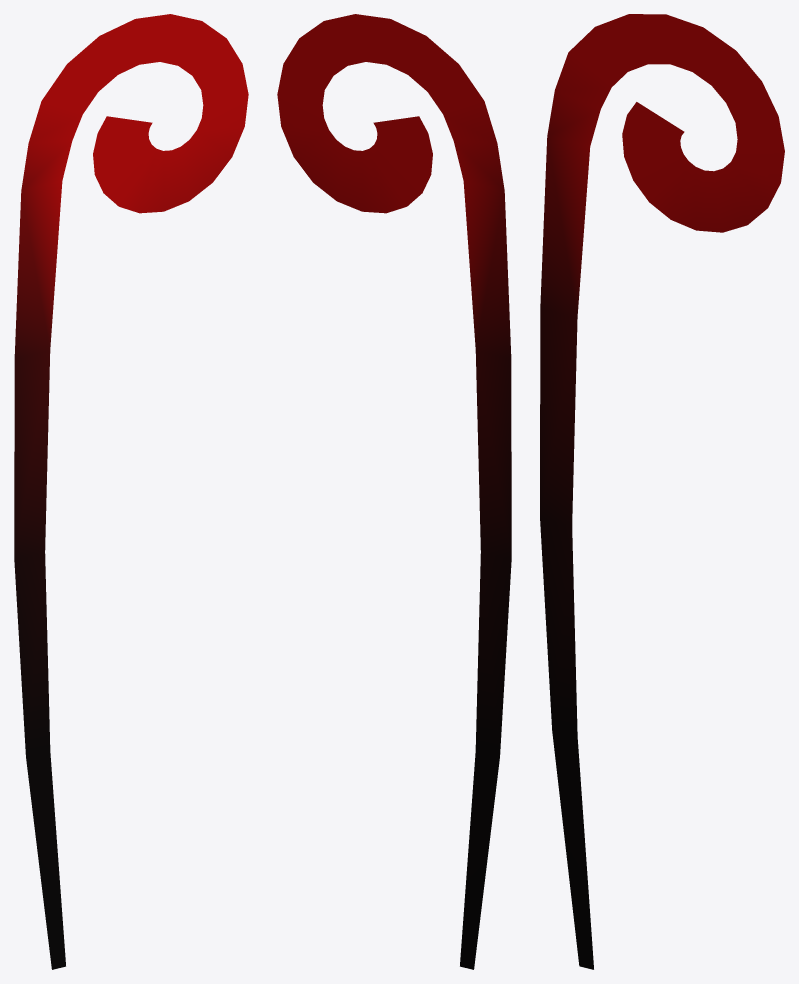
Rendered from SM_Fern_03_LOD0.fbx.
3 views of the same model, side by side, from view 1: azimuth 30°, elevation 25°; view 2: azimuth 150°, elevation 25°; view 3: azimuth 330°, elevation 25° (orthographic). The views are drawn at different scales.
Parts seen in each view (by area): view 1: Fern_03_LOD0; view 2: Fern_03_LOD0; view 3: Fern_03_LOD0.
Part boxes in pixels (x1,y1,x2,y2): Fern_03_LOD0: (14, 14, 248, 969); Fern_03_LOD0: (277, 14, 511, 969); Fern_03_LOD0: (540, 14, 784, 969).
Size of the model in its own units: 31.2 by 118 by 2.53e-05.
